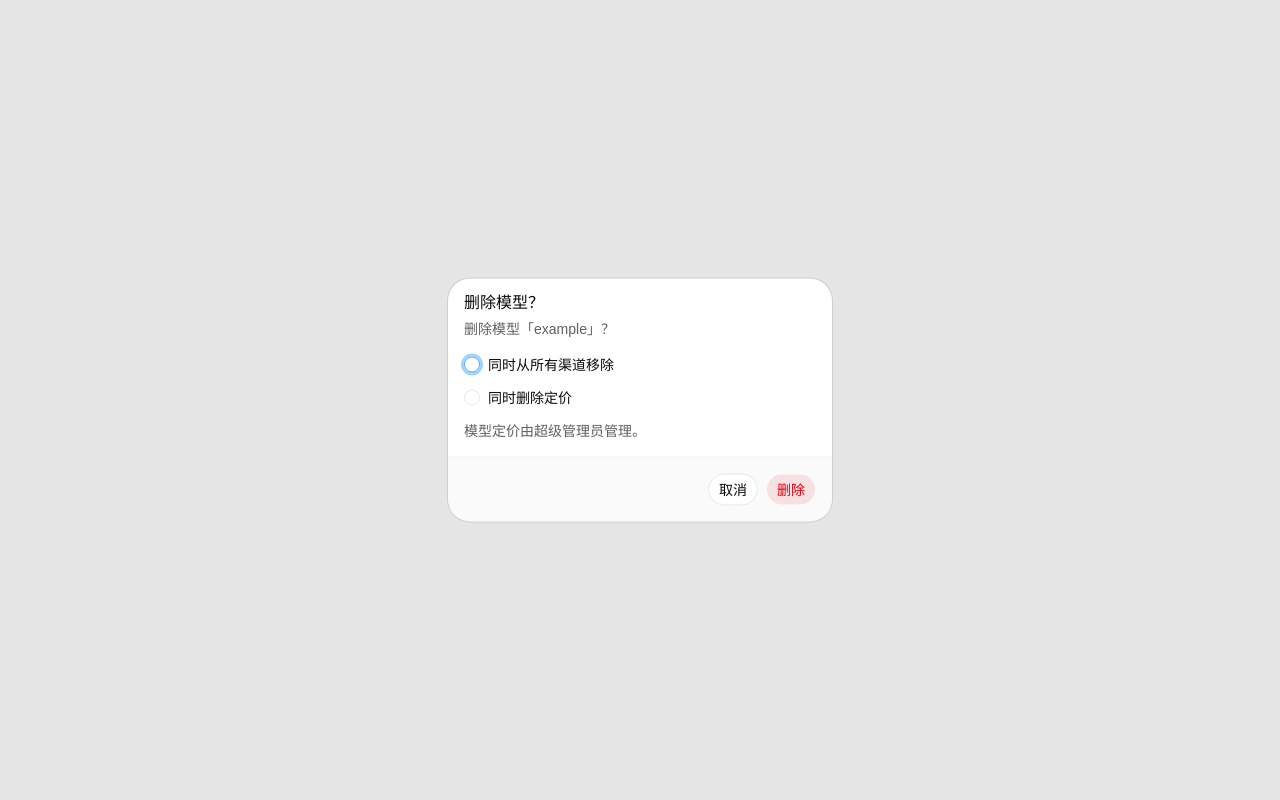
Scenario: does not show a raw network error when deleting a model fails
Click the button "删除" at {"x": 791, "y": 490}, box [766,474,816,506]
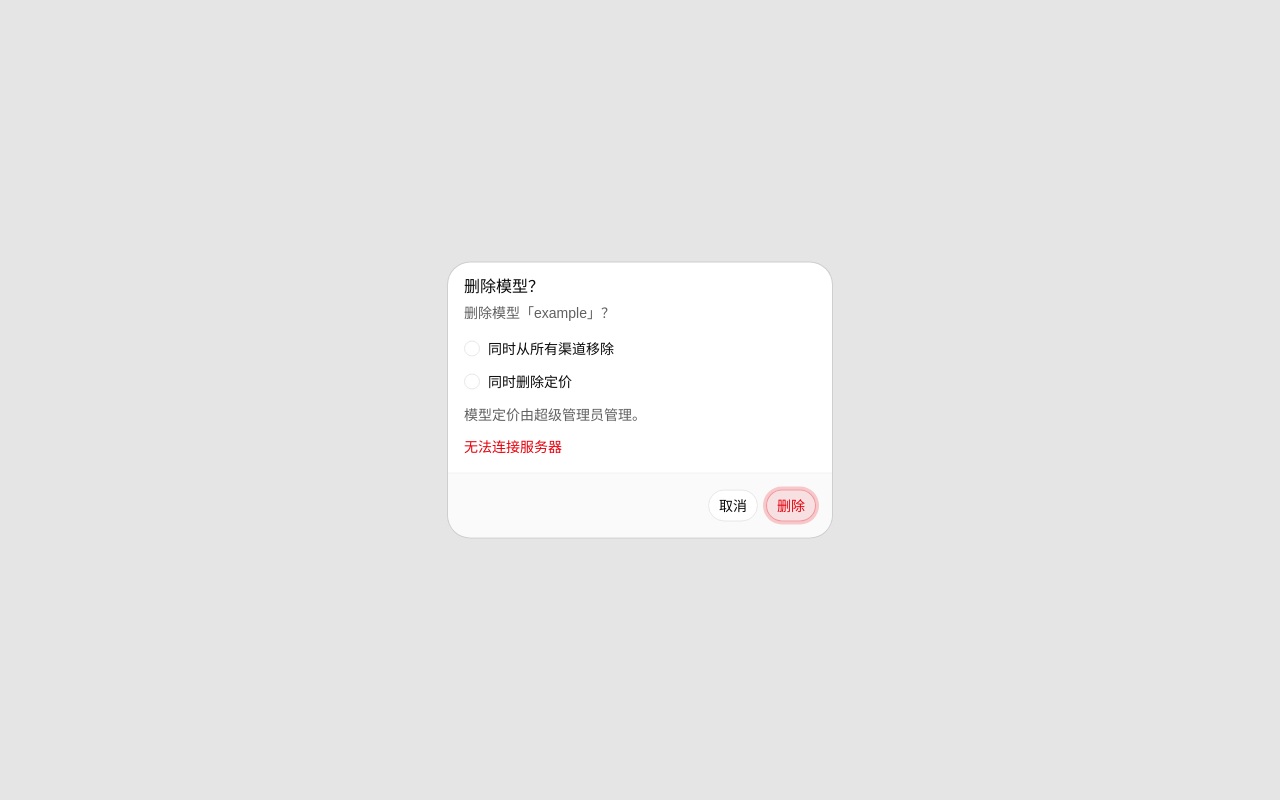
expect the message reads "无法连接服务器": met, box [464,438,562,454]
